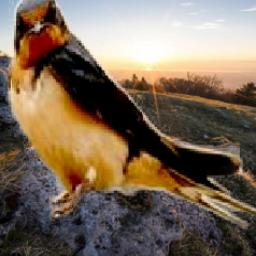Swallow: (3, 0, 256, 241)
